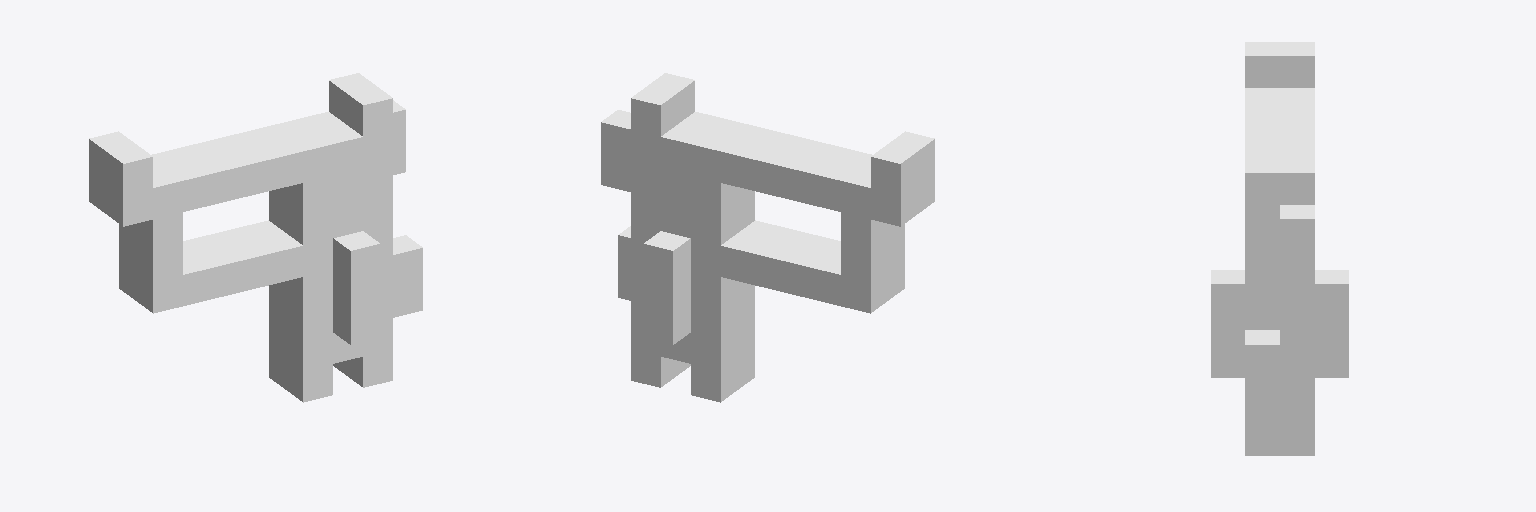
Rendered from Mecha01_right_gun.obj.
The picture shows the model from 3 angles: view 1: azimuth 30°, elevation 25°; view 2: azimuth 150°, elevation 25°; view 3: azimuth 270°, elevation 25°; orthographic projection.
Visible parts, largest first — view 1: object 1; view 2: object 1; view 3: object 1.
Part boxes in pixels (bbox=[...]): object 1: bbox=[89, 73, 422, 402]; object 1: bbox=[601, 73, 934, 402]; object 1: bbox=[1211, 42, 1348, 455].
Size of the model in its own units: 1 by 0.9 by 0.4.